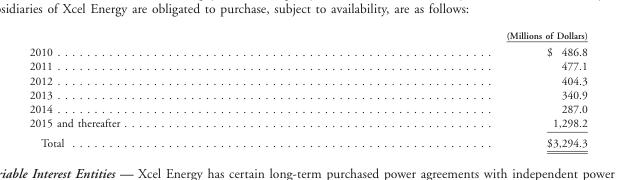table: (28, 29, 586, 148)
table column: (28, 29, 312, 148), (312, 29, 586, 148)
table column header: (28, 29, 586, 42)
table row: (28, 42, 586, 59), (28, 115, 586, 132), (28, 132, 586, 148), (28, 59, 586, 73), (28, 73, 586, 87), (28, 87, 586, 101), (28, 101, 586, 115), (28, 29, 586, 42)
